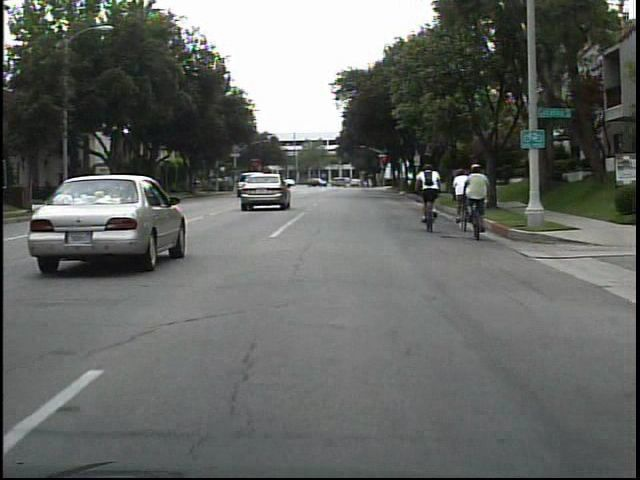person: (466, 158, 497, 240), (416, 159, 447, 233), (452, 164, 477, 232)
